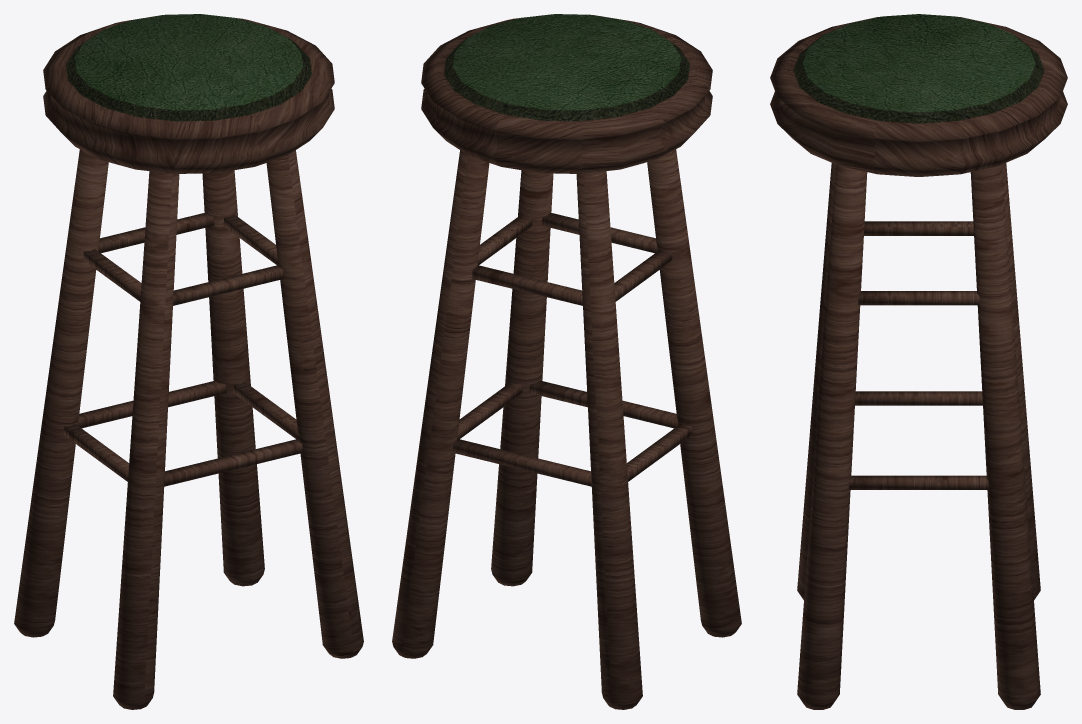
Rendered from chair_protoo.fbx.
3 renders of one model, left to right at view 1: azimuth 30°, elevation 25°; view 2: azimuth 150°, elevation 25°; view 3: azimuth 270°, elevation 25°, orthographic.
Parts seen in each view (by area): view 1: chair joined; view 2: chair joined; view 3: chair joined.
Boxes of the visible parts, <box> form: chair joined: <box>14,14,363,709</box>; chair joined: <box>392,14,741,709</box>; chair joined: <box>770,14,1067,709</box>.
Bounding box in the file's own units: 38.25 × 83.44 × 38.25.
